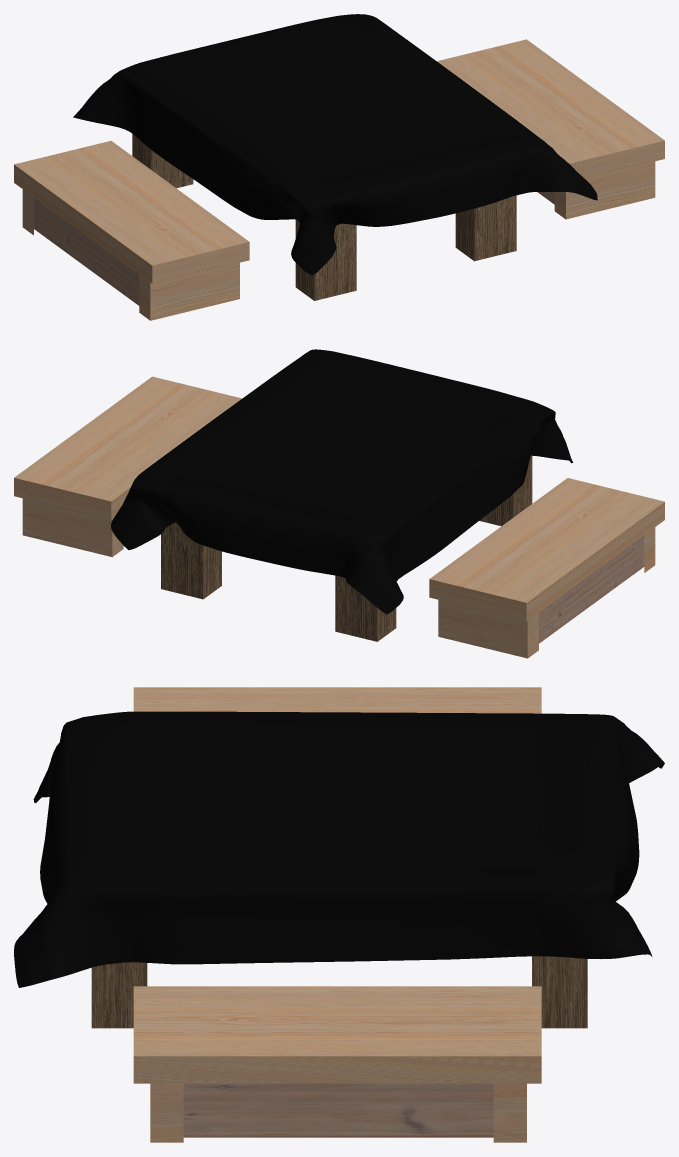
Rendered from mesa_silla.obj.
The picture shows the model from 3 angles, top to bottom: view 1: azimuth 30°, elevation 25°; view 2: azimuth 150°, elevation 25°; view 3: azimuth 270°, elevation 25°; orthographic projection. The views are drawn at different scales.
Visible parts, largest first — view 1: polySurface375; view 2: polySurface375; view 3: polySurface375.
Part boxes in pixels (bbox=[...]): polySurface375: bbox=[14, 14, 664, 320]; polySurface375: bbox=[14, 349, 664, 658]; polySurface375: bbox=[14, 687, 664, 1142].
Size of the model in its own units: 2.47 by 0.504 by 1.84.
